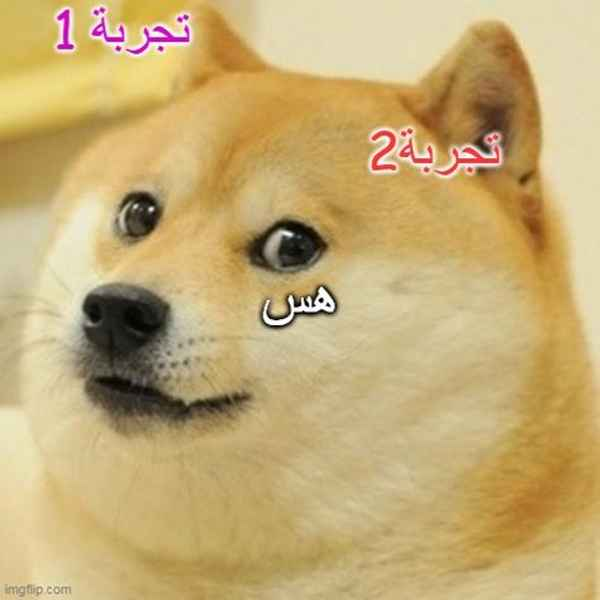doge: (33, 20, 556, 524)
